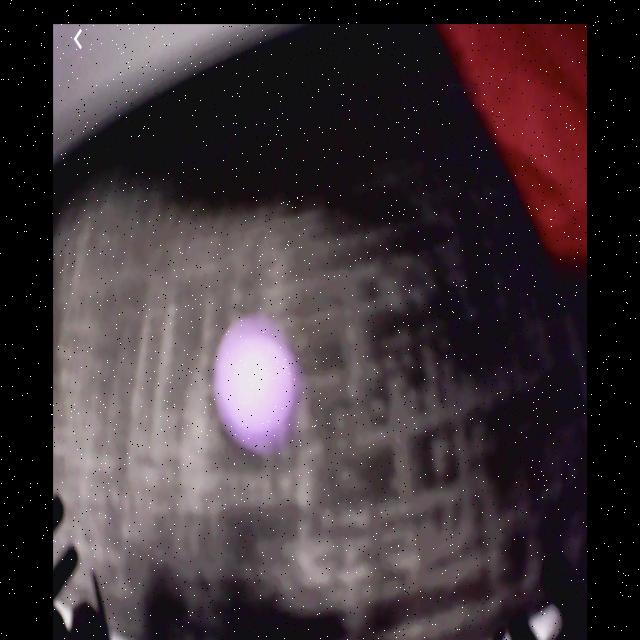ball: (215, 322, 297, 446)
